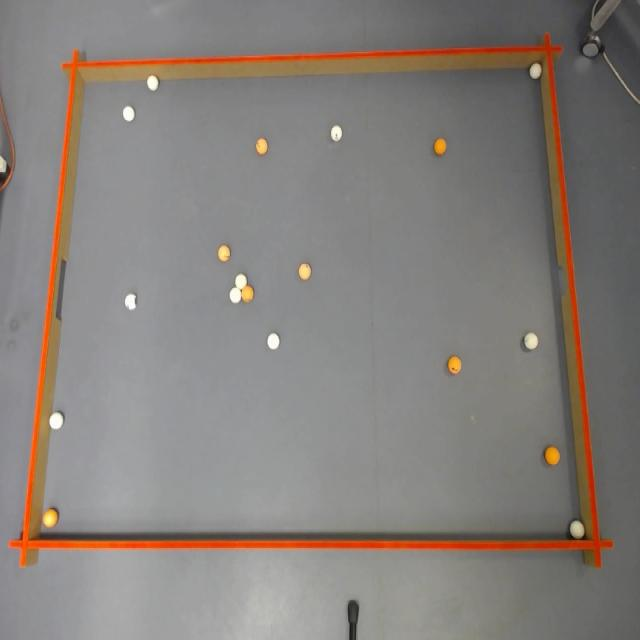orange_ball: (545, 446, 560, 466), (43, 508, 58, 528), (448, 356, 461, 374), (255, 138, 268, 155), (434, 138, 446, 155), (218, 245, 230, 262), (242, 285, 254, 302), (298, 263, 310, 279)
white_ball: (569, 520, 585, 539), (49, 412, 64, 429), (524, 332, 538, 350), (529, 62, 542, 80), (268, 333, 280, 349), (125, 294, 137, 310), (123, 105, 134, 122), (331, 125, 342, 142), (147, 75, 158, 91), (230, 288, 241, 304), (235, 274, 247, 288)
